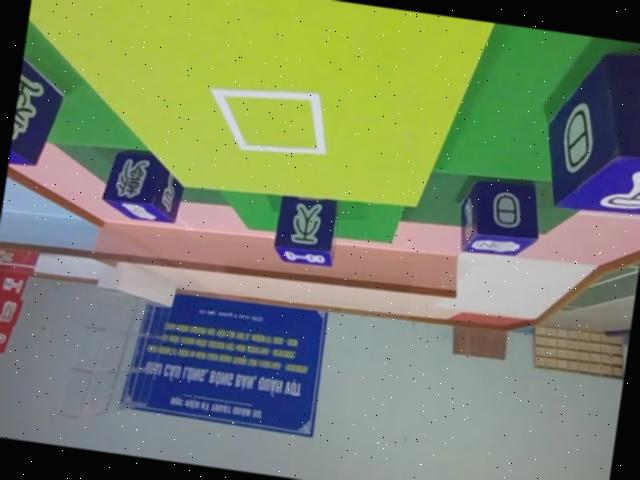R2 Fake Blue: (535, 36, 640, 222), (455, 172, 547, 262), (8, 40, 71, 168), (100, 145, 191, 226), (270, 189, 341, 266)
